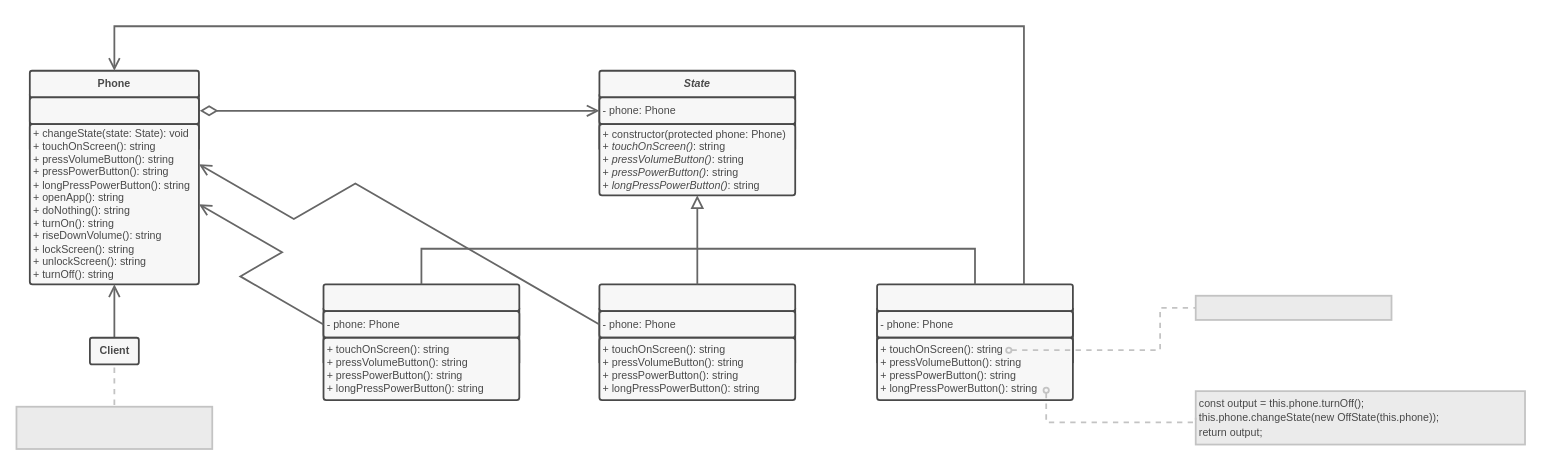
The diagram is 1541 pixels wide and 465 high, and some of its shapes have lost their labels. Here are the shapes that lost their labels. From the top down, the box of each, then its label:
(28, 96, 199, 125): - state: State
(322, 283, 520, 312): LockedState
(598, 283, 796, 312): OffState
(876, 283, 1073, 312): OnState
(1194, 294, 1392, 320): return this.phone.openApp();
(15, 405, 213, 449): const phone = new Phone(); phone.longPressPowerButton();
